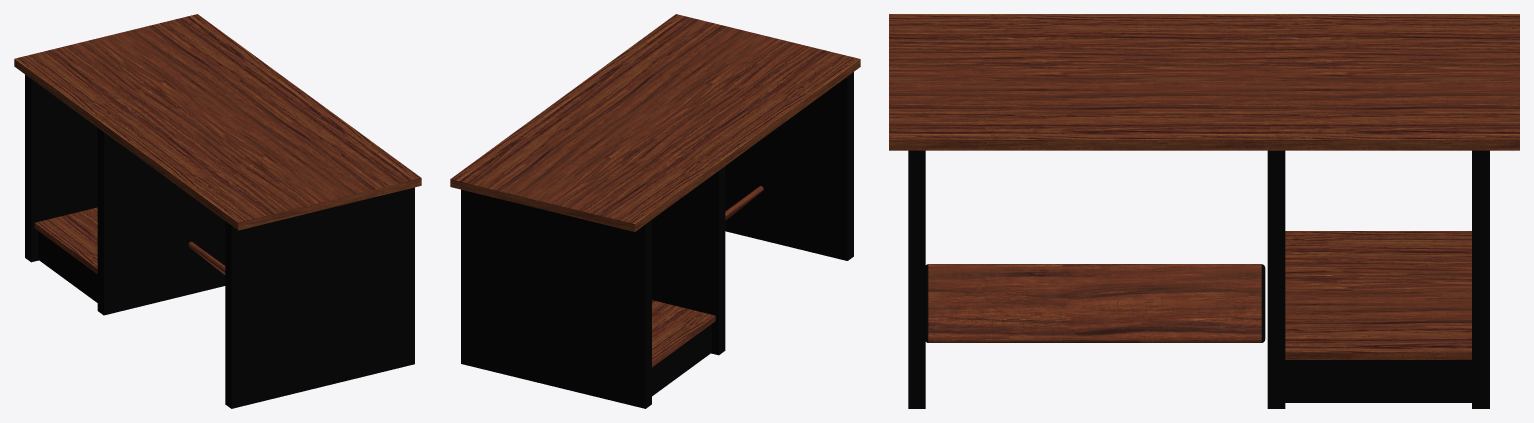
Rendered from table_server.glb.
3 views of the same model, side by side, from view 1: azimuth 30°, elevation 25°; view 2: azimuth 150°, elevation 25°; view 3: azimuth 270°, elevation 25° (orthographic). The views are drawn at different scales.
Parts seen in each view (by area): view 1: Meja_Visual.010; view 2: Meja_Visual.010; view 3: Meja_Visual.010.
Part boxes in pixels (x1=…): Meja_Visual.010: x1=14, y1=14, x2=421, y2=408; Meja_Visual.010: x1=450, y1=14, x2=860, y2=408; Meja_Visual.010: x1=889, y1=14, x2=1519, y2=408.
Size of the model in its own units: 2.28 by 2.27 by 4.83.
2 materials, 1 textured.
